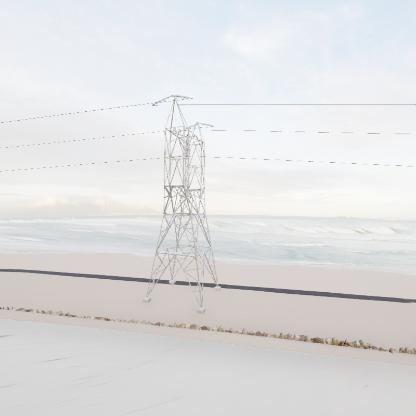tower: (140, 93, 224, 317)
